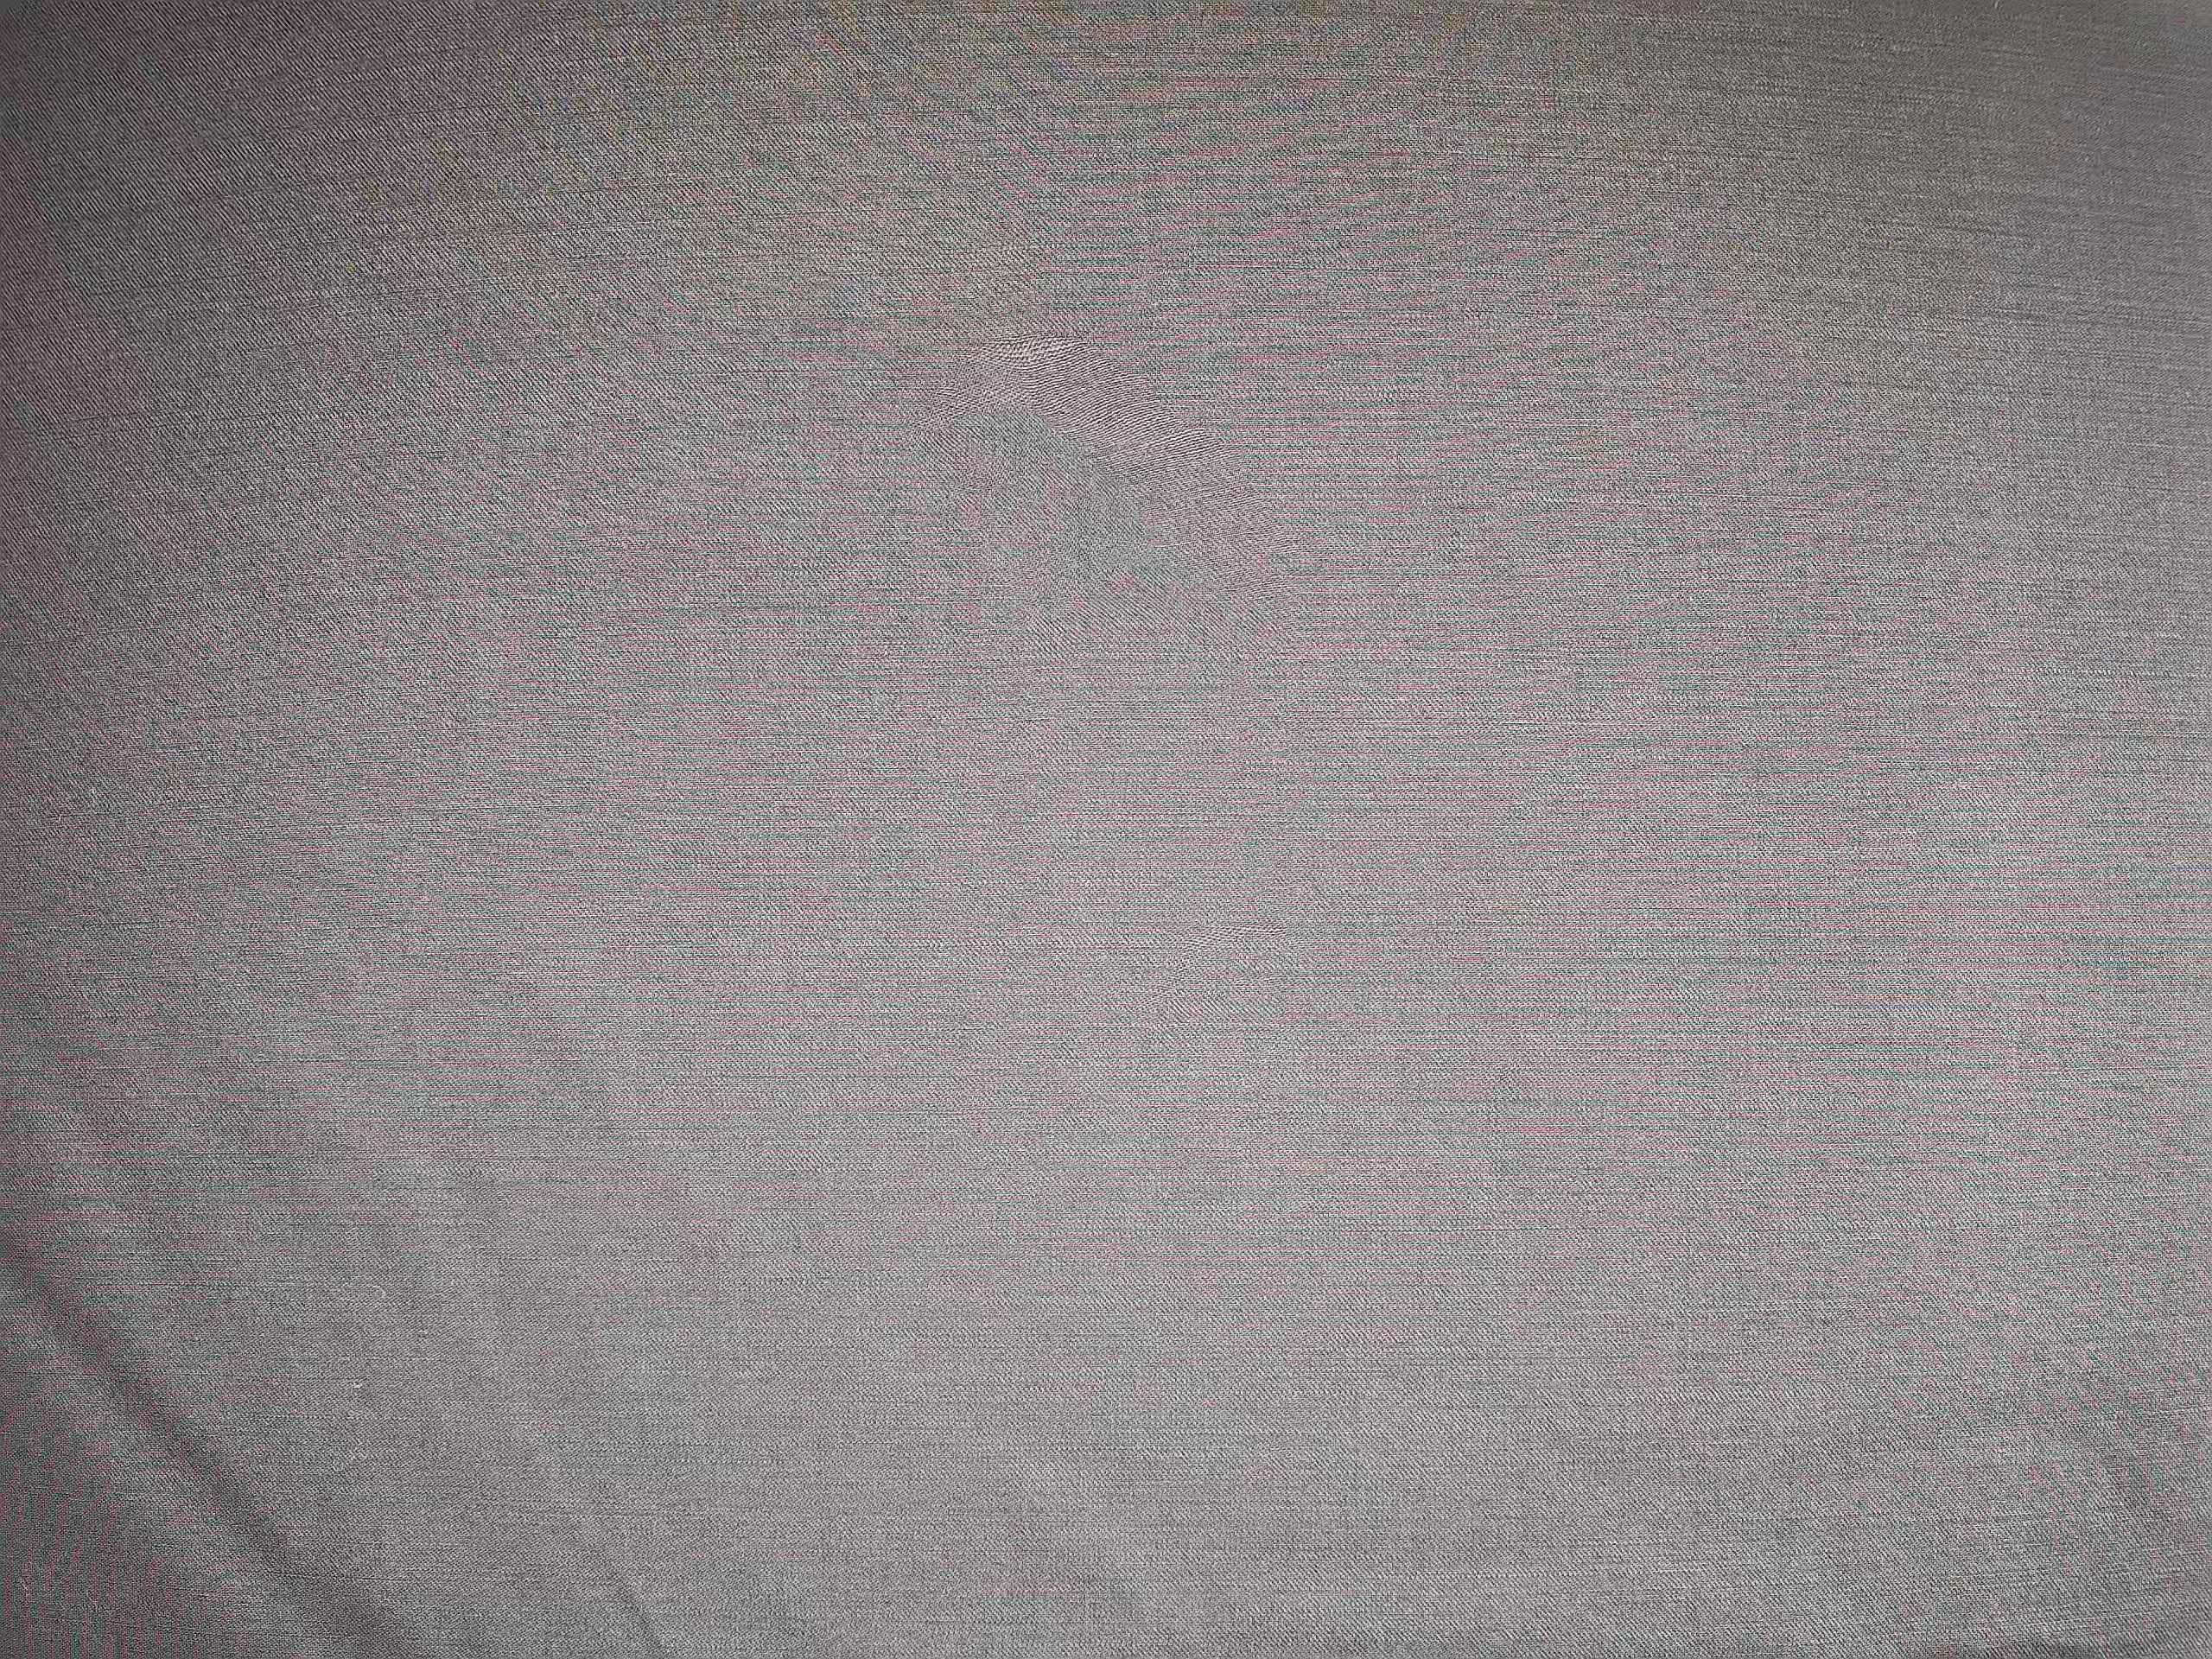thin-spinning: (954, 300, 1310, 582)
